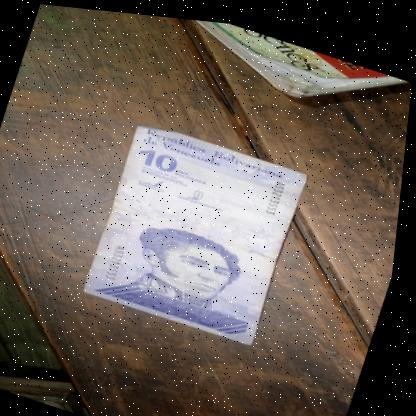ten-front-vef: (67, 106, 296, 337)
